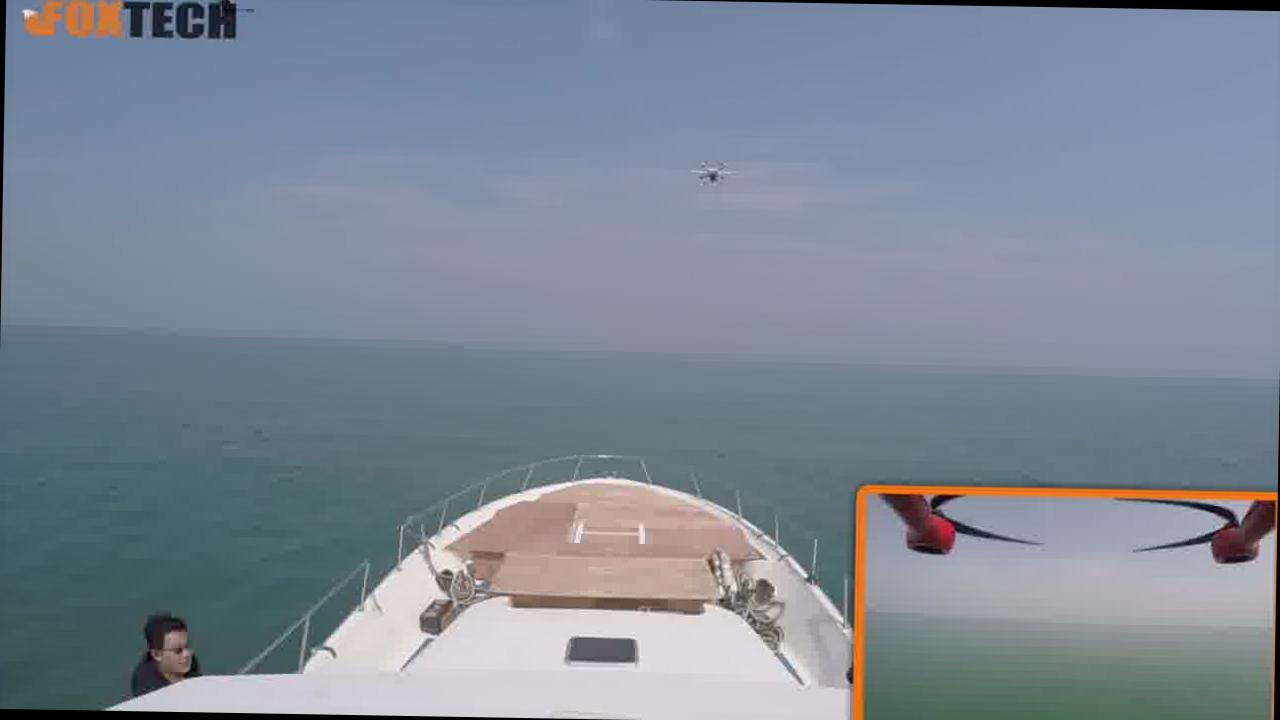drone: (684, 146, 744, 193)
